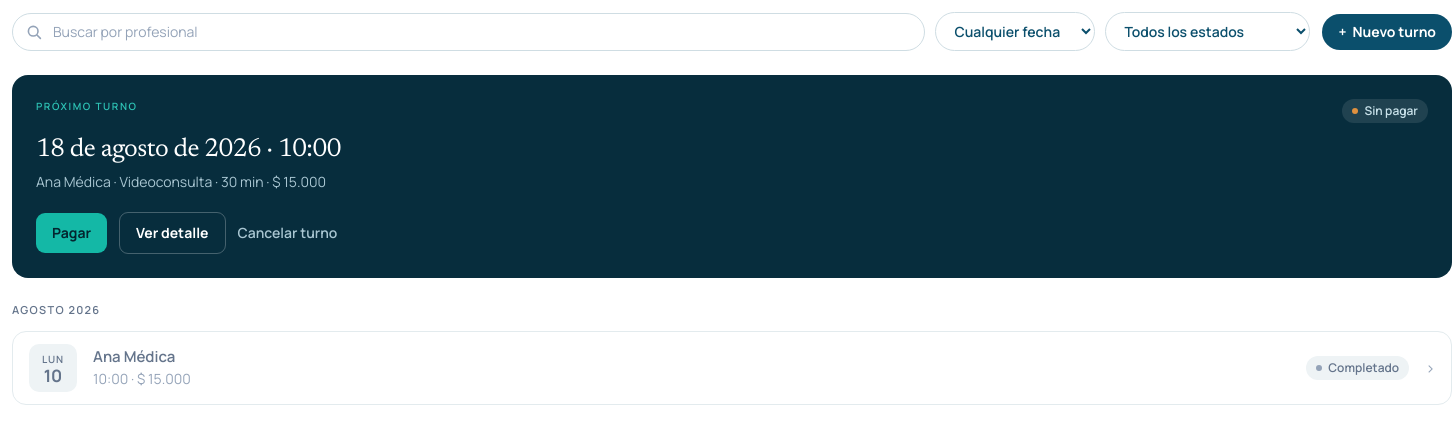
Test case: MyAppointments (ENG-178) › busca por nombre y, sin resultados, ofrece limpiar los filtros
Type "zzz" into the search field.
click(469, 32); type("zzz")  # box [12,12,925,50]
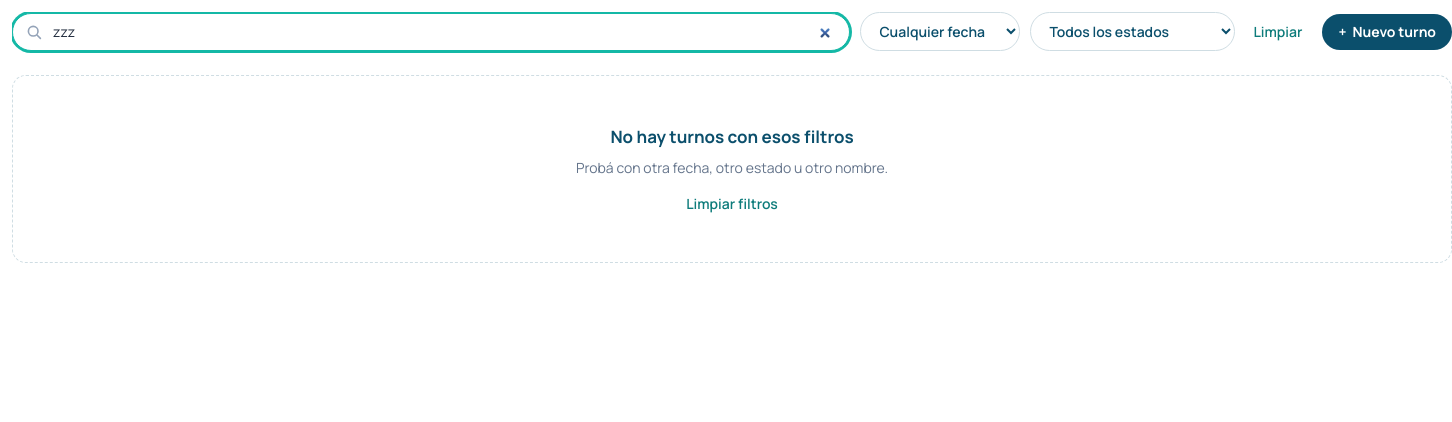
Now the text "No hay turnos con esos filtros" is shown, box [610,124,854,150]
Click the button "Limpiar filtros".
click(732, 204)  # box [686,194,778,214]
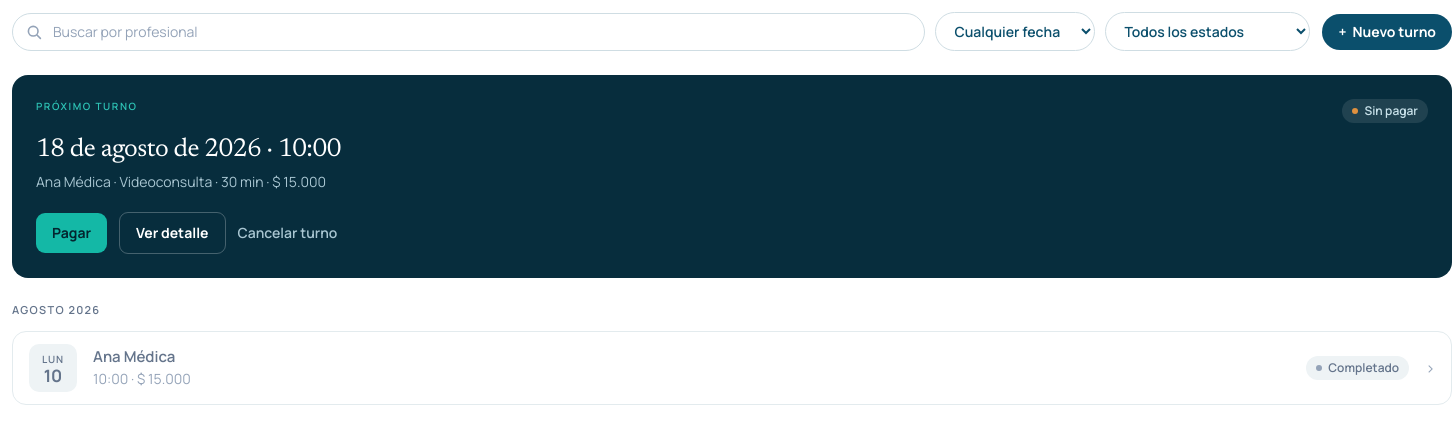
Now the element "Próximo turno" is shown, box [12,75,1451,278]
